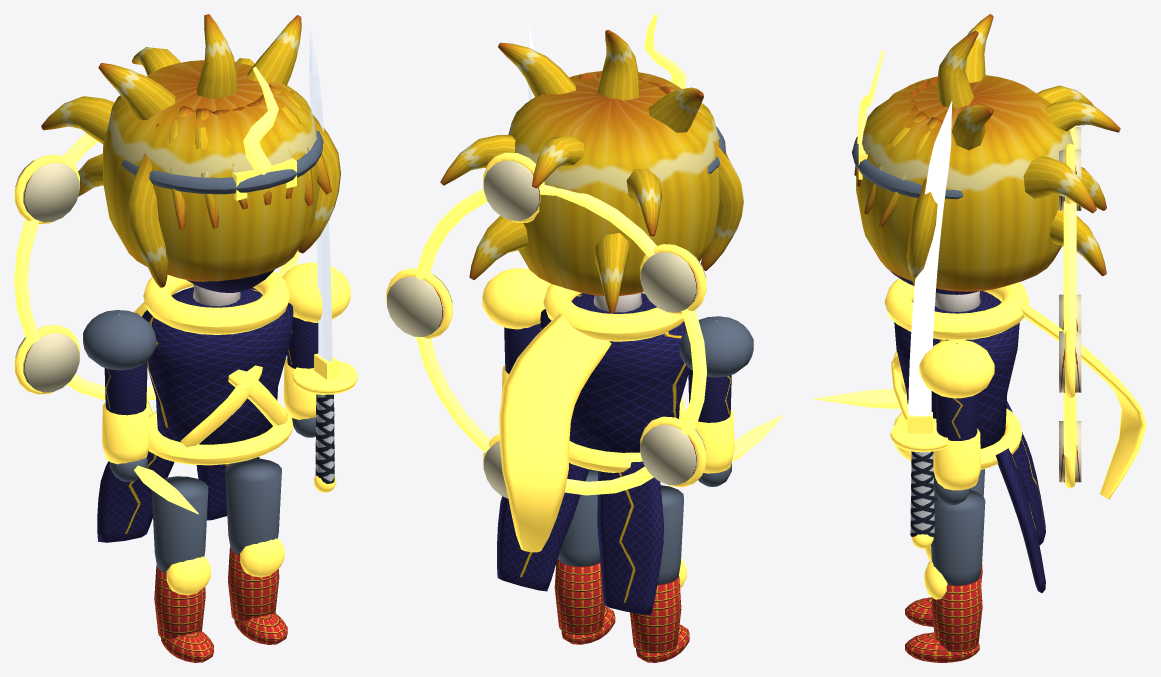
Rendered from hero_raijin.glb.
3 renders of one model, left to right at view 1: azimuth 30°, elevation 25°; view 2: azimuth 150°, elevation 25°; view 3: azimuth 270°, elevation 25°, orthographic. The views are drawn at different scales.
Parts seen in each view (by area): view 1: HairMesh, TorsoMesh, LegMesh (×2), ArmMesh (×2), RaijinDrumsMesh, Headgear, ScarfCollar, WeaponHilt, WeaponBlade, HeadMesh; view 2: HairMesh, TorsoMesh, RaijinDrumsMesh, ScarfStreamerMesh, LegMesh (×2), ArmMesh (×2), ScarfCollar, Headgear; view 3: HairMesh, TorsoMesh, LegMesh (×2), ArmMesh (×2), RaijinDrumsMesh, WeaponBlade, ScarfCollar, WeaponHilt, ScarfStreamerMesh, Headgear.
Part boxes in pixels (box(x1,y1,x2,y2)): HairMesh: box(41, 14, 340, 287); TorsoMesh: box(97, 284, 293, 542); LegMesh (×2): box(151, 458, 287, 662); ArmMesh (×2): box(83, 262, 350, 514); RaijinDrumsMesh: box(14, 133, 299, 400); Headgear: box(121, 66, 323, 200); ScarfCollar: box(143, 271, 290, 334); WeaponHilt: box(292, 353, 357, 492); WeaponBlade: box(309, 27, 332, 361); HeadMesh: box(187, 269, 274, 292); HairMesh: box(440, 30, 743, 313); TorsoMesh: box(497, 292, 688, 615); RaijinDrumsMesh: box(386, 152, 706, 498); ScarfStreamerMesh: box(499, 313, 611, 552); LegMesh (×2): box(554, 469, 689, 662); ArmMesh (×2): box(482, 268, 784, 486); ScarfCollar: box(543, 284, 683, 341); Headgear: box(644, 14, 725, 173); HairMesh: box(854, 14, 1120, 291); TorsoMesh: box(891, 291, 1045, 592); LegMesh (×2): box(905, 469, 985, 662); ArmMesh (×2): box(813, 339, 994, 505); RaijinDrumsMesh: box(1059, 126, 1081, 488); WeaponBlade: box(908, 101, 952, 416); ScarfCollar: box(884, 278, 1029, 339); WeaponHilt: box(890, 412, 948, 548); ScarfStreamerMesh: box(1020, 305, 1146, 499); Headgear: box(852, 50, 963, 199).
Bounding box in the file's own units: 1.46 × 2.74 × 1.36.
Materials: 11 (6 with a texture image).
